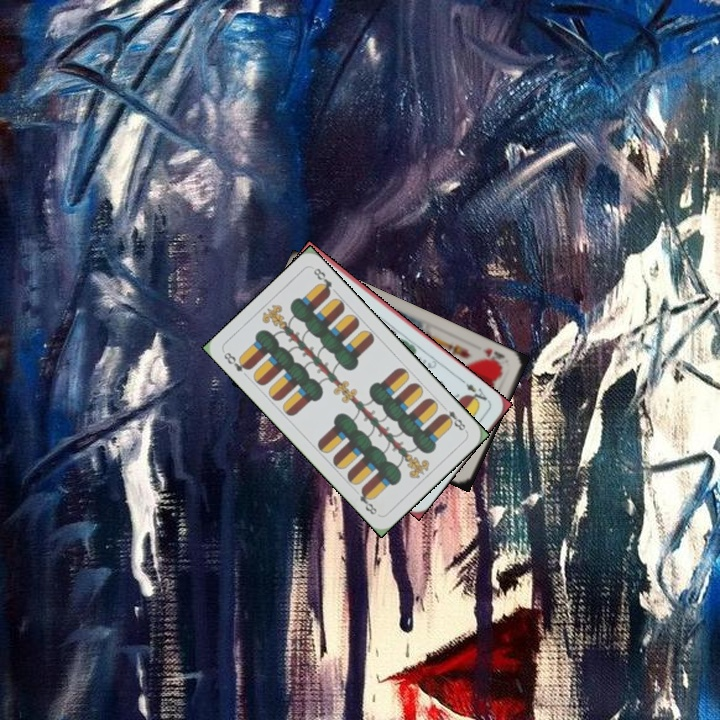E8: (437, 401, 469, 434), (220, 348, 253, 375)
EA: (458, 376, 493, 407)
HK: (479, 344, 508, 369)
